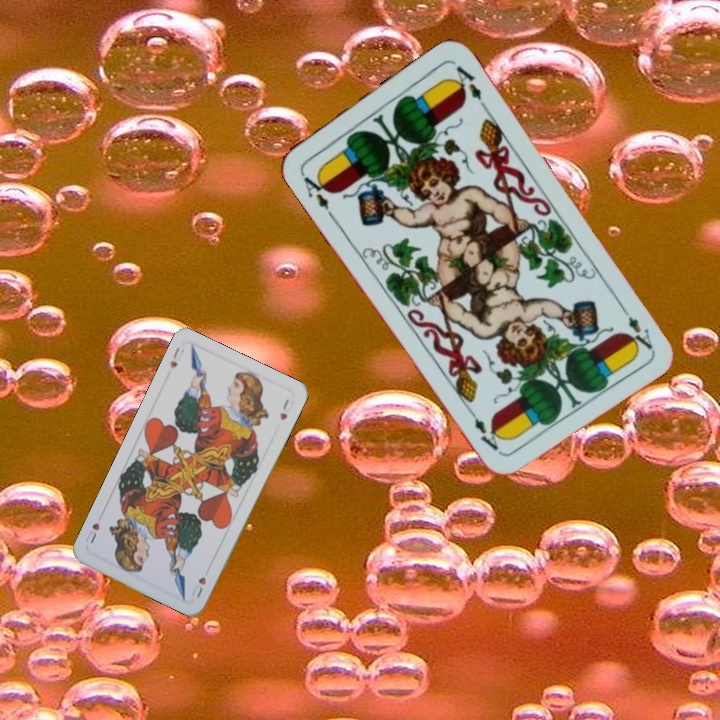EA: (615, 300, 655, 354), (296, 166, 334, 213)
HU: (187, 572, 209, 601), (166, 343, 182, 371)
